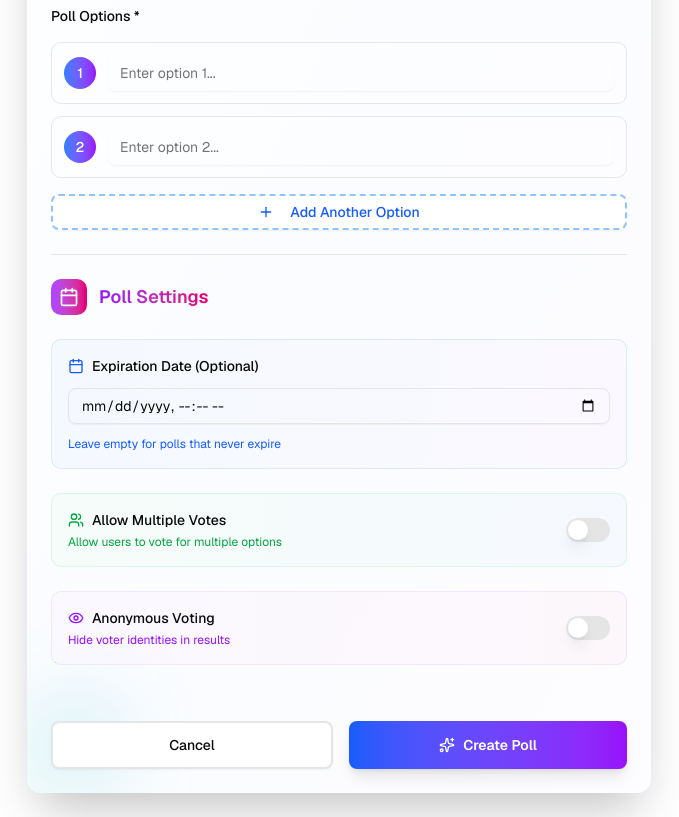
Test: Poll Creation Form Integration Tests › Form Validation Integration › should prevent submission with invalid data and show errors
This screenshot has width=679, height=817.
(page scrolled)
# Try to submit with empty form
Click the button "Create Poll".
click(488, 745)  # box [349, 721, 627, 769]
(page scrolled)
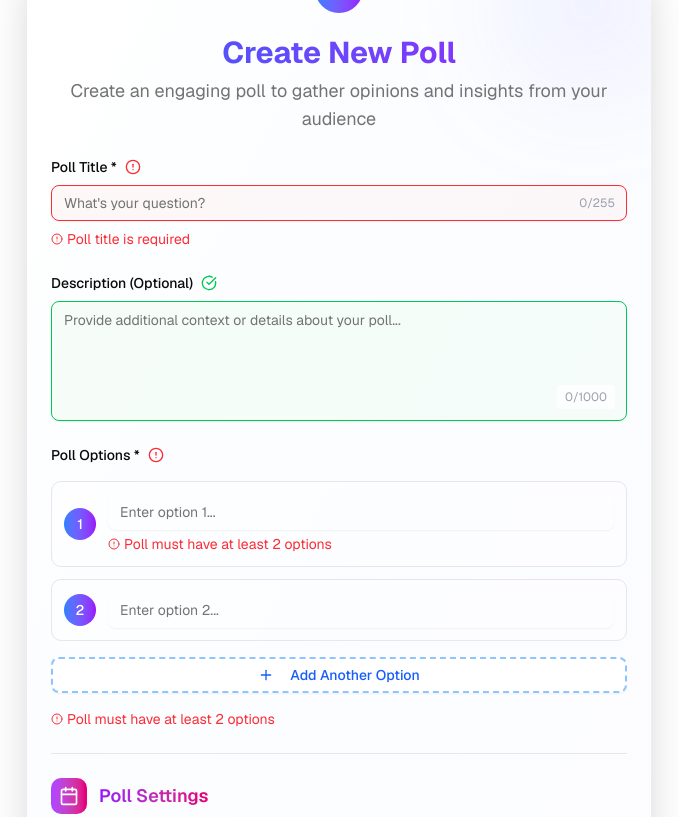
Expected: the text "Poll title is required" is shown, [51, 230, 190, 248]
